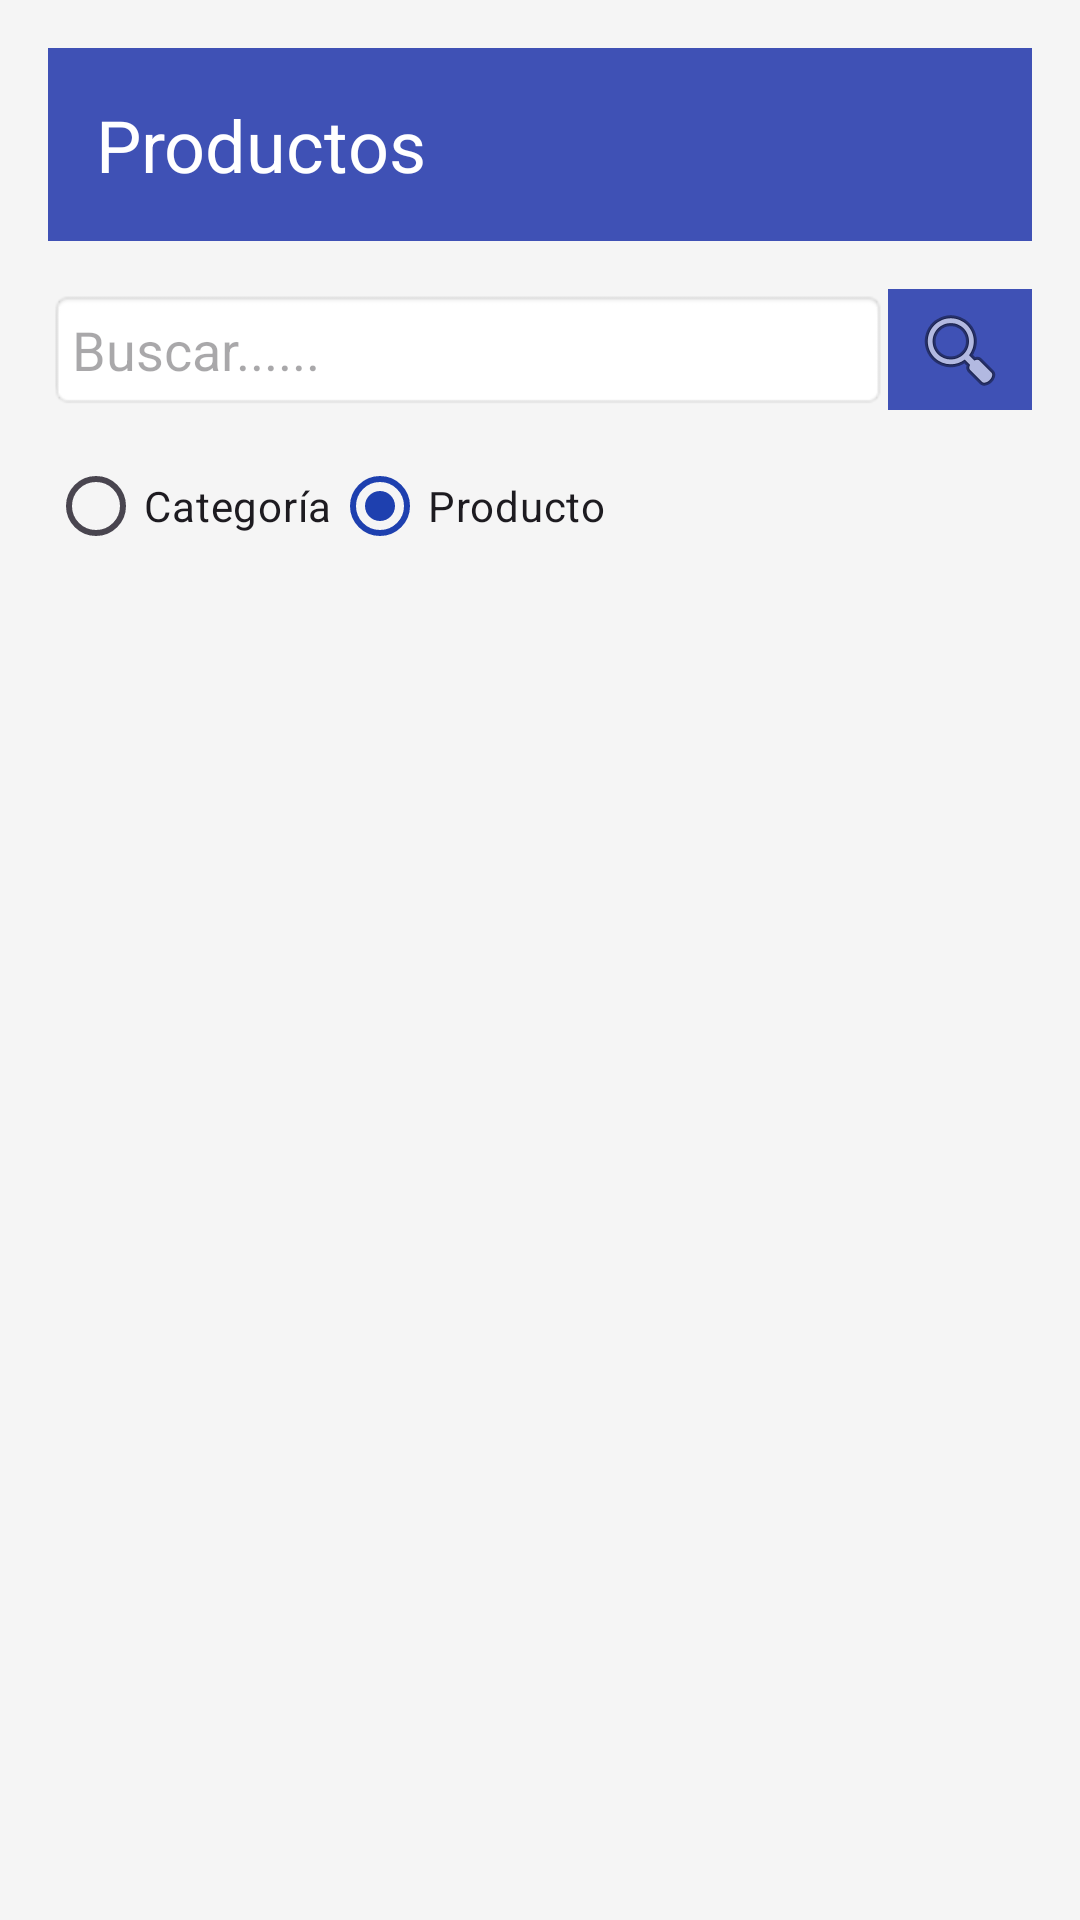

Named icons in this screenshot (1080x1920) and their bounding boxes, (x1, y1, x2, y2):
search: (888, 289, 1032, 410)
